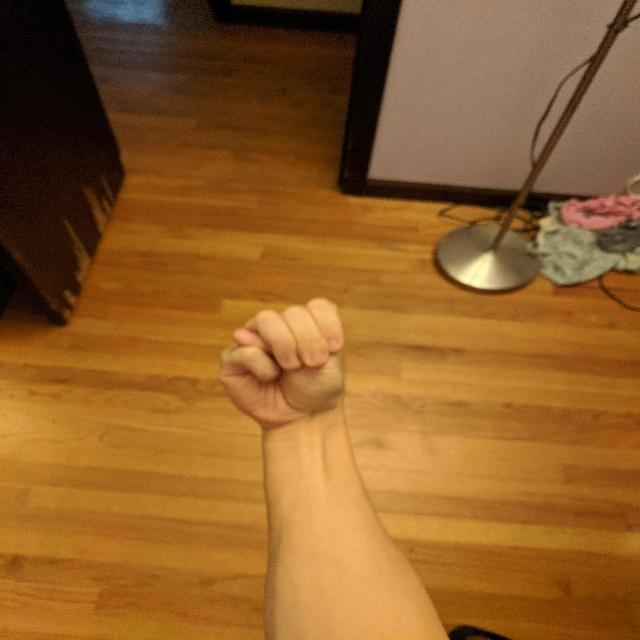M: (211, 294, 352, 430)
